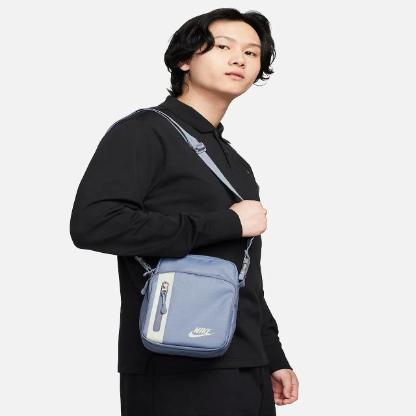bag: (132, 241, 246, 364)
person: (65, 3, 300, 416)
